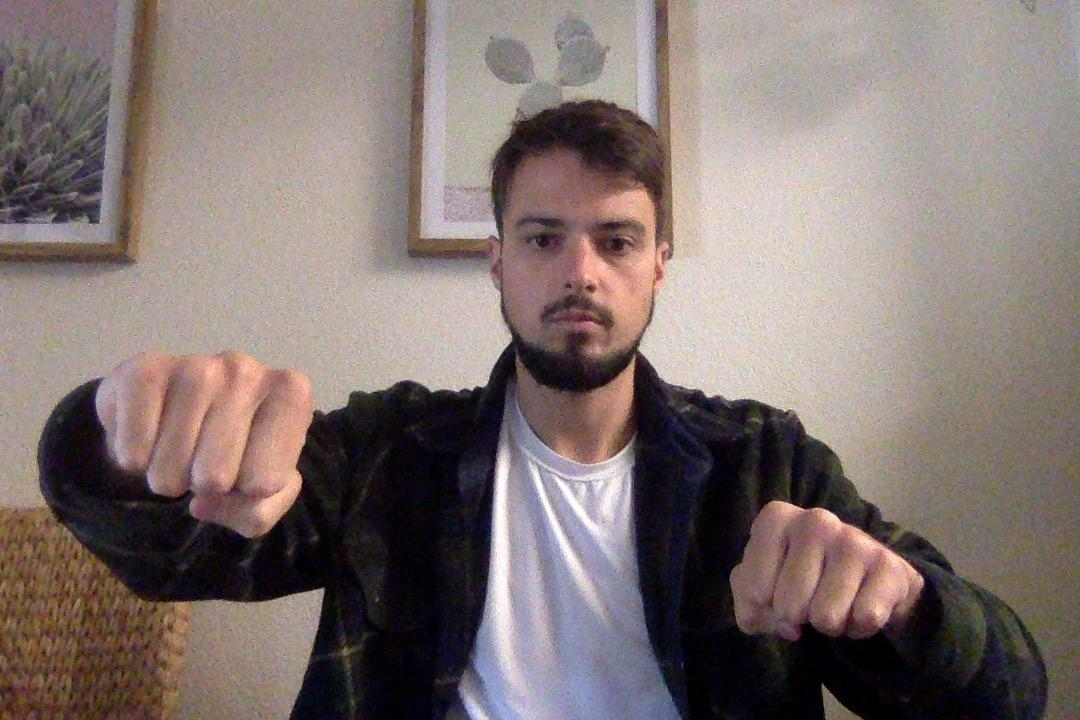Oncoming-Punch: (54, 347, 323, 550), (719, 504, 921, 661)
